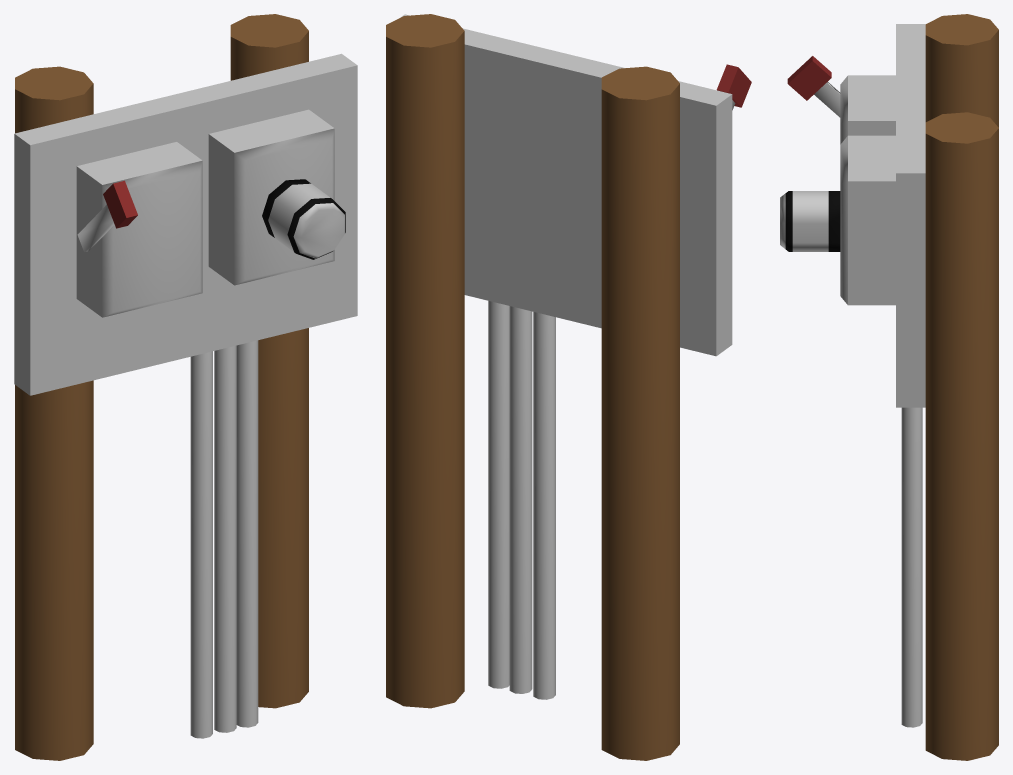
The model's file is ElectricMeterPanel.fbx.
3 views of the same model, side by side, from view 1: azimuth 30°, elevation 25°; view 2: azimuth 150°, elevation 25°; view 3: azimuth 270°, elevation 25° (orthographic). The views are drawn at different scales.
Visible parts, largest first — view 1: ElectricMeterPanel; view 2: ElectricMeterPanel; view 3: ElectricMeterPanel.
Boxes of the visible parts, bbox=[...] form: ElectricMeterPanel: bbox=[14, 14, 357, 760]; ElectricMeterPanel: bbox=[386, 14, 751, 760]; ElectricMeterPanel: bbox=[780, 14, 998, 760].
Size of the model in its own units: 272 by 524 by 169.
